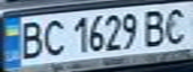1: (66, 14, 90, 54)
2: (103, 11, 124, 52)
6: (87, 12, 109, 53)
9: (118, 9, 142, 51)
B: (12, 18, 48, 61), (139, 7, 172, 47)
C: (36, 16, 69, 57), (160, 4, 193, 45)
